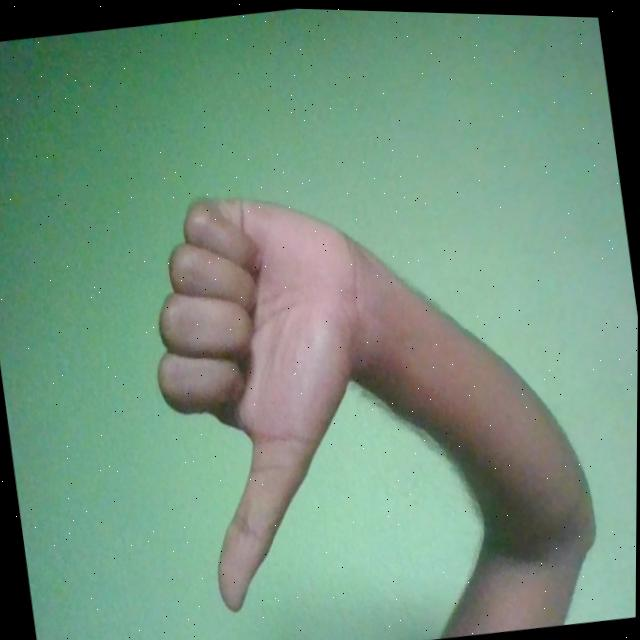Dislike: (130, 173, 409, 622)
